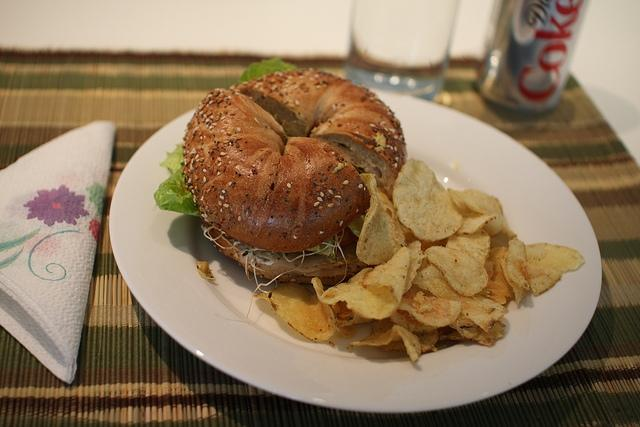lettuce: (154, 144, 199, 216), (237, 56, 296, 85)
